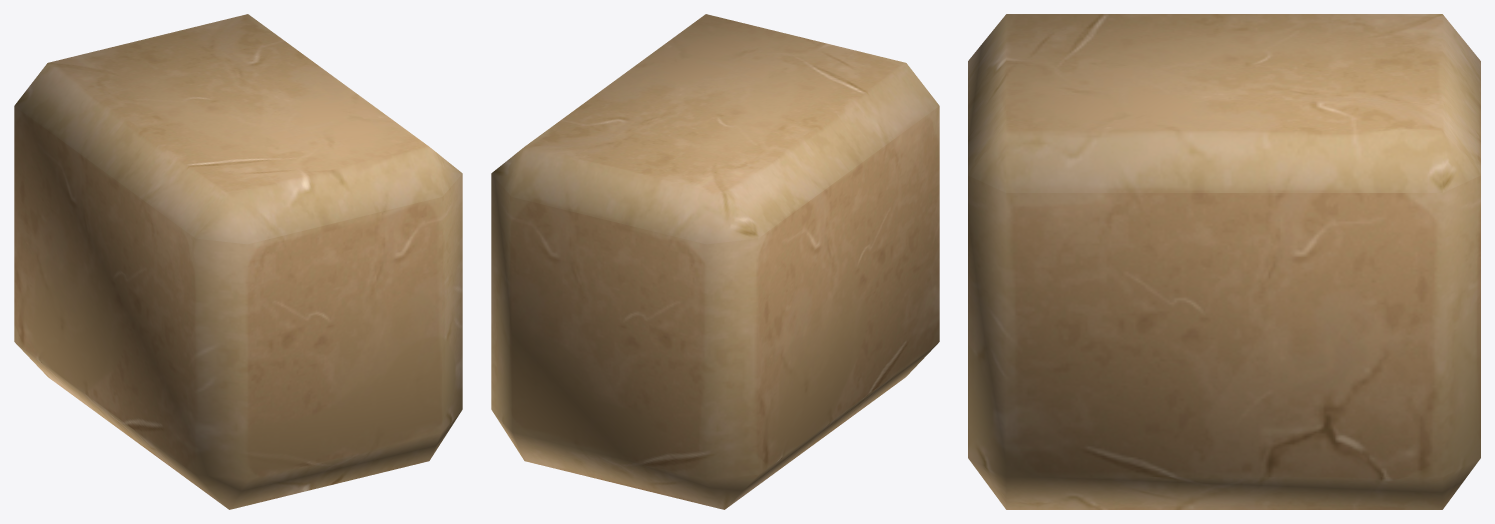
File: DE_House_Mod_Part_47.fbx
The picture shows the model from 3 angles, left to right: view 1: azimuth 30°, elevation 25°; view 2: azimuth 150°, elevation 25°; view 3: azimuth 270°, elevation 25°; orthographic projection. The views are drawn at different scales.
Parts seen in each view (by area): view 1: DE_House_Mod_Part_47; view 2: DE_House_Mod_Part_47; view 3: DE_House_Mod_Part_47.
Boxes of the visible parts, x1,y1,x2,y2 form: DE_House_Mod_Part_47: [14, 14, 462, 509]; DE_House_Mod_Part_47: [491, 14, 939, 509]; DE_House_Mod_Part_47: [968, 14, 1480, 509].
Bounding box in the file's own units: 0.6744 × 0.7589 × 0.9325.
